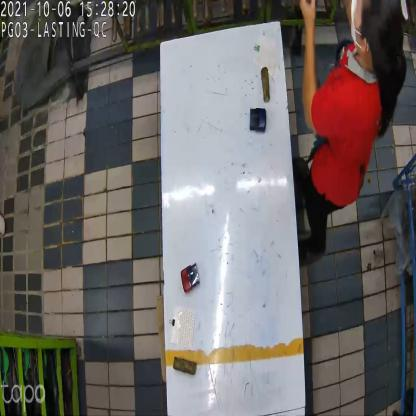stamp: (181, 259, 201, 296), (248, 103, 266, 137)
